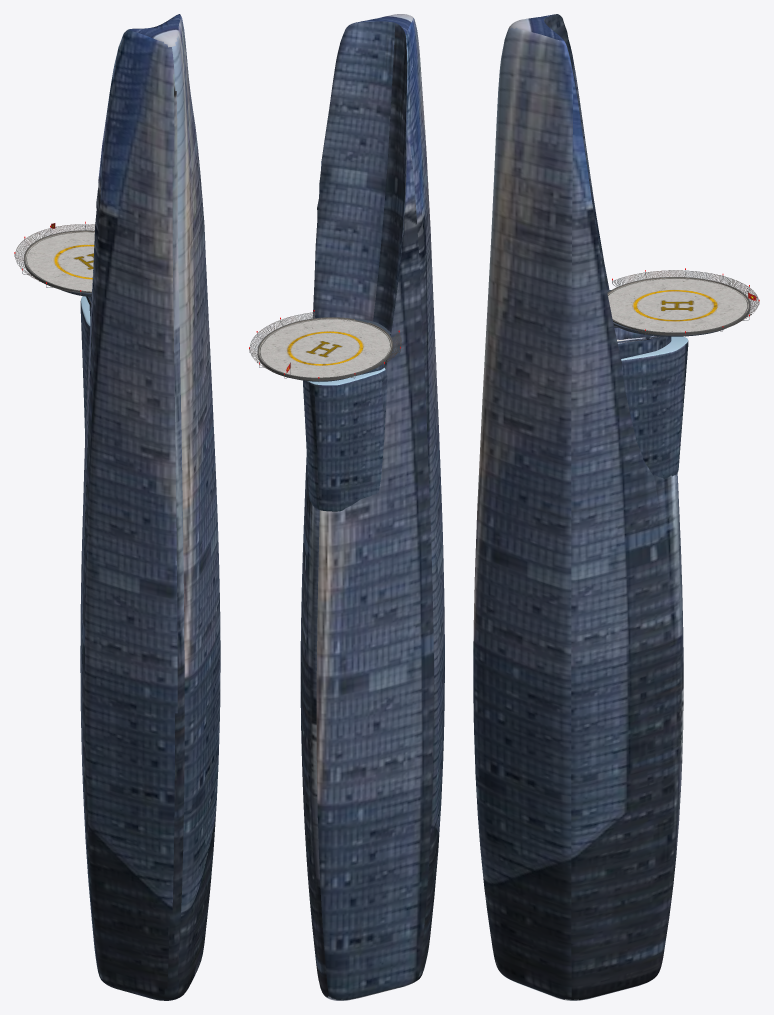
The model's file is bitexco.glb.
3 renders of one model, left to right at view 1: azimuth 30°, elevation 25°; view 2: azimuth 150°, elevation 25°; view 3: azimuth 270°, elevation 25°, orthographic.
Visible parts, largest first — view 1: Object_8, Object_24, Object_29; view 2: Object_8, Object_24, Object_29; view 3: Object_8, Object_24, Object_29, Object_14.
Boxes of the visible parts, bbox=[...] form: Object_8: bbox=[80, 14, 220, 1000]; Object_24: bbox=[24, 230, 94, 293]; Object_29: bbox=[15, 224, 95, 292]; Object_8: bbox=[300, 14, 444, 1000]; Object_24: bbox=[257, 317, 392, 380]; Object_29: bbox=[249, 312, 401, 379]; Object_8: bbox=[473, 14, 688, 1000]; Object_24: bbox=[607, 277, 750, 335]; Object_29: bbox=[612, 270, 758, 334]; Object_14: bbox=[618, 336, 671, 358].
Size of the model in its own units: 12.75 by 83.95 by 22.77.
Materials: 8 (7 with a texture image).
